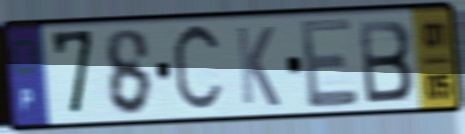7: (48, 28, 96, 121)
8: (102, 26, 155, 118)
B: (355, 16, 416, 106)
C: (169, 19, 226, 120)
E: (297, 14, 362, 113)
K: (233, 24, 283, 110)
